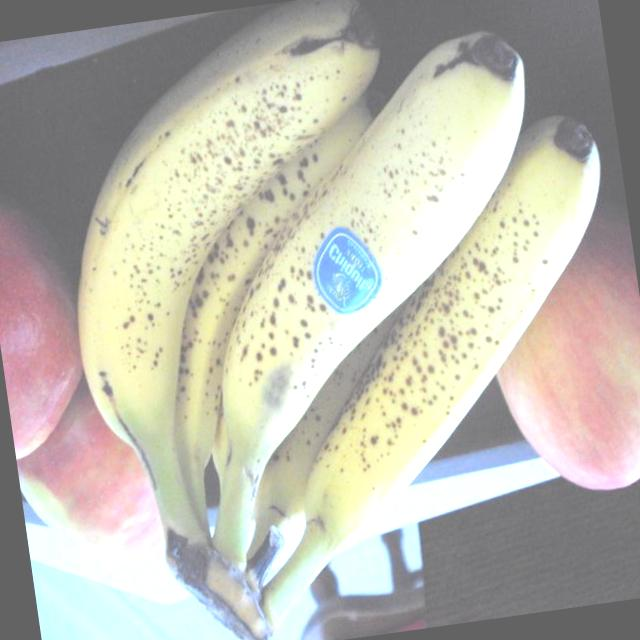Apple: (477, 220, 640, 507), (9, 372, 172, 579), (0, 184, 94, 460)
Banana: (32, 0, 640, 640)
